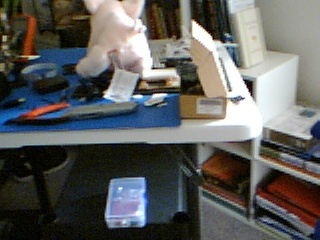piggy: (74, 1, 156, 80)
